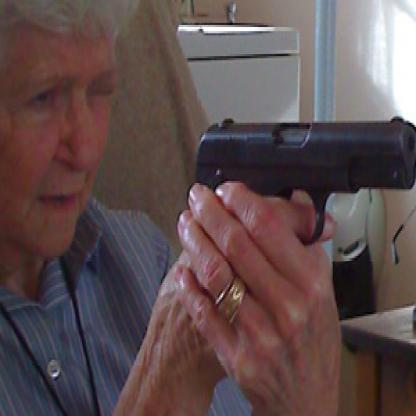gun: (174, 110, 414, 314)
